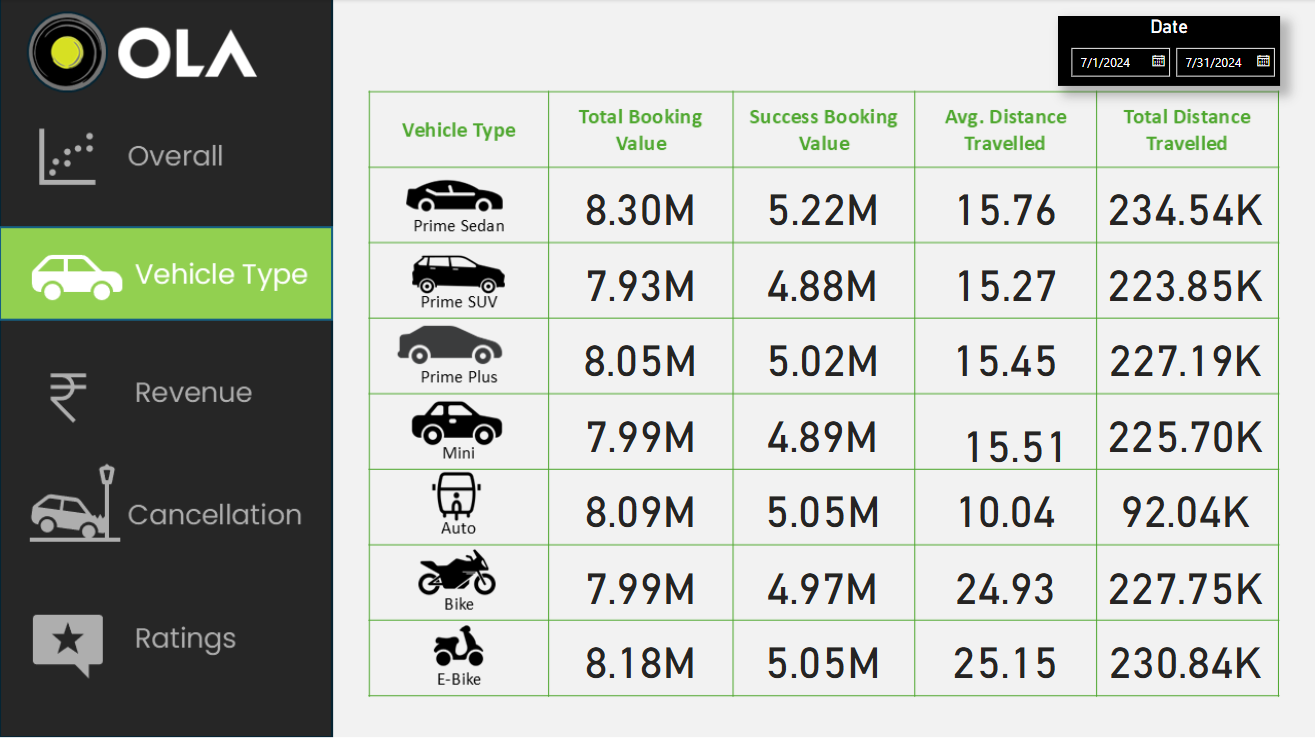

The page's visual inventory and layout, read from the dashboard file:
{"tool":"powerbi","page":{"name":"Vehicle Type","canvas":[1280,720],"ordinal":1},"visuals":[{"type":"actionButton","box":[0,327.5,324,104.5],"z":0},{"type":"actionButton","box":[0,441.7,324,104.5],"z":1000},{"type":"actionButton","box":[0,569,324,104.5],"z":2000},{"type":"actionButton","box":[0,106.2,324,104.5],"z":3000},{"type":"card","fields":{"Values":["Sum(Bookings.Booking_Value)"]},"box":[540,167.8,165.6,65.6],"z":4000},{"type":"card","fields":{"Values":["Sum(Bookings.Booking_Value)"]},"box":[540,241.1,165.6,65.6],"z":5000},{"type":"card","fields":{"Values":["Sum(Bookings.Booking_Value)"]},"box":[540,314.4,165.6,65.6],"z":6000},{"type":"card","fields":{"Values":["Sum(Bookings.Booking_Value)"]},"box":[540,387.8,165.6,65.6],"z":7000},{"type":"card","fields":{"Values":["Sum(Bookings.Booking_Value)"]},"box":[540,461.1,165.6,65.6],"z":8000},{"type":"card","fields":{"Values":["Sum(Bookings.Booking_Value)"]},"box":[540,535.6,165.6,65.6],"z":9000},{"type":"card","fields":{"Values":["Sum(Bookings.Booking_Value)"]},"box":[540,607.8,165.6,65.6],"z":10000},{"type":"card","fields":{"Values":["Sum(Bookings.Booking_Value)"]},"box":[716.7,167.8,165.6,65.6],"z":11000},{"type":"card","fields":{"Values":["Sum(Bookings.Booking_Value)"]},"box":[716.7,241.1,165.6,65.6],"z":12000},{"type":"card","fields":{"Values":["Sum(Bookings.Booking_Value)"]},"box":[716.7,314.4,165.6,65.6],"z":13000},{"type":"card","fields":{"Values":["Sum(Bookings.Booking_Value)"]},"box":[716.7,387.8,165.6,65.6],"z":14000},{"type":"card","fields":{"Values":["Sum(Bookings.Booking_Value)"]},"box":[716.7,461.1,165.6,65.6],"z":15000},{"type":"card","fields":{"Values":["Sum(Bookings.Booking_Value)"]},"box":[716.7,535.6,165.6,65.6],"z":16000},{"type":"card","fields":{"Values":["Sum(Bookings.Booking_Value)"]},"box":[716.7,607.8,165.6,65.6],"z":17000},{"type":"card","fields":{"Values":["Avg(Bookings.Ride_Distance)"]},"box":[894.4,167.8,165.6,65.6],"z":18000},{"type":"card","fields":{"Values":["Avg(Bookings.Ride_Distance)"]},"box":[894.4,241.1,165.6,65.6],"z":19000},{"type":"card","fields":{"Values":["Avg(Bookings.Ride_Distance)"]},"box":[894.4,314.4,165.6,65.6],"z":20000},{"type":"card","fields":{"Values":["Sum(Bookings.Ride_Distance)"]},"box":[1070,387.8,165.6,65.6],"z":21000},{"type":"card","fields":{"Values":["Avg(Bookings.Ride_Distance)"]},"box":[894.4,461.1,165.6,65.6],"z":22000},{"type":"card","fields":{"Values":["Avg(Bookings.Ride_Distance)"]},"box":[894.4,535.6,165.6,65.6],"z":23000},{"type":"card","fields":{"Values":["Avg(Bookings.Ride_Distance)"]},"box":[894.4,607.8,165.6,65.6],"z":24000},{"type":"card","fields":{"Values":["Sum(Bookings.Ride_Distance)"]},"box":[1070,607.8,165.6,65.6],"z":25000},{"type":"card","fields":{"Values":["Sum(Bookings.Ride_Distance)"]},"box":[1070,535.6,165.6,65.6],"z":26000},{"type":"card","fields":{"Values":["Sum(Bookings.Ride_Distance)"]},"box":[1070,461.1,165.6,65.6],"z":27000},{"type":"card","fields":{"Values":["Avg(Bookings.Ride_Distance)"]},"box":[904.4,397.8,165.6,65.6],"z":28000},{"type":"card","fields":{"Values":["Sum(Bookings.Ride_Distance)"]},"box":[1070,314.4,165.6,65.6],"z":29000},{"type":"card","fields":{"Values":["Sum(Bookings.Ride_Distance)"]},"box":[1070,241.1,165.6,65.6],"z":30000},{"type":"card","fields":{"Values":["Sum(Bookings.Ride_Distance)"]},"box":[1070,167.8,165.6,65.6],"z":31000},{"type":"slicer","title":"Date","fields":{"Values":["Bookings.Date"]},"box":[1028.8,16.2,216.2,67.5],"z":32000}]}

Visuals, with their boxes in screenshot pixels (x1, y1, x2, y2), scaled from the page's 1280x720 canvas onto the 1315x739 screenshot:
actionButton: {"left": 0, "top": 336, "right": 333, "bottom": 443}
actionButton: {"left": 0, "top": 453, "right": 333, "bottom": 561}
actionButton: {"left": 0, "top": 584, "right": 333, "bottom": 691}
actionButton: {"left": 0, "top": 109, "right": 333, "bottom": 216}
card - Sum(Bookings.Booking_Value): {"left": 555, "top": 172, "right": 725, "bottom": 240}
card - Sum(Bookings.Booking_Value): {"left": 555, "top": 247, "right": 725, "bottom": 315}
card - Sum(Bookings.Booking_Value): {"left": 555, "top": 323, "right": 725, "bottom": 390}
card - Sum(Bookings.Booking_Value): {"left": 555, "top": 398, "right": 725, "bottom": 465}
card - Sum(Bookings.Booking_Value): {"left": 555, "top": 473, "right": 725, "bottom": 541}
card - Sum(Bookings.Booking_Value): {"left": 555, "top": 550, "right": 725, "bottom": 617}
card - Sum(Bookings.Booking_Value): {"left": 555, "top": 624, "right": 725, "bottom": 691}
card - Sum(Bookings.Booking_Value): {"left": 736, "top": 172, "right": 906, "bottom": 240}
card - Sum(Bookings.Booking_Value): {"left": 736, "top": 247, "right": 906, "bottom": 315}
card - Sum(Bookings.Booking_Value): {"left": 736, "top": 323, "right": 906, "bottom": 390}
card - Sum(Bookings.Booking_Value): {"left": 736, "top": 398, "right": 906, "bottom": 465}
card - Sum(Bookings.Booking_Value): {"left": 736, "top": 473, "right": 906, "bottom": 541}
card - Sum(Bookings.Booking_Value): {"left": 736, "top": 550, "right": 906, "bottom": 617}
card - Sum(Bookings.Booking_Value): {"left": 736, "top": 624, "right": 906, "bottom": 691}
card - Avg(Bookings.Ride_Distance): {"left": 919, "top": 172, "right": 1089, "bottom": 240}
card - Avg(Bookings.Ride_Distance): {"left": 919, "top": 247, "right": 1089, "bottom": 315}
card - Avg(Bookings.Ride_Distance): {"left": 919, "top": 323, "right": 1089, "bottom": 390}
card - Sum(Bookings.Ride_Distance): {"left": 1099, "top": 398, "right": 1269, "bottom": 465}
card - Avg(Bookings.Ride_Distance): {"left": 919, "top": 473, "right": 1089, "bottom": 541}
card - Avg(Bookings.Ride_Distance): {"left": 919, "top": 550, "right": 1089, "bottom": 617}
card - Avg(Bookings.Ride_Distance): {"left": 919, "top": 624, "right": 1089, "bottom": 691}
card - Sum(Bookings.Ride_Distance): {"left": 1099, "top": 624, "right": 1269, "bottom": 691}
card - Sum(Bookings.Ride_Distance): {"left": 1099, "top": 550, "right": 1269, "bottom": 617}
card - Sum(Bookings.Ride_Distance): {"left": 1099, "top": 473, "right": 1269, "bottom": 541}
card - Avg(Bookings.Ride_Distance): {"left": 929, "top": 408, "right": 1099, "bottom": 476}
card - Sum(Bookings.Ride_Distance): {"left": 1099, "top": 323, "right": 1269, "bottom": 390}
card - Sum(Bookings.Ride_Distance): {"left": 1099, "top": 247, "right": 1269, "bottom": 315}
card - Sum(Bookings.Ride_Distance): {"left": 1099, "top": 172, "right": 1269, "bottom": 240}
"Date" slicer: {"left": 1057, "top": 17, "right": 1279, "bottom": 86}
